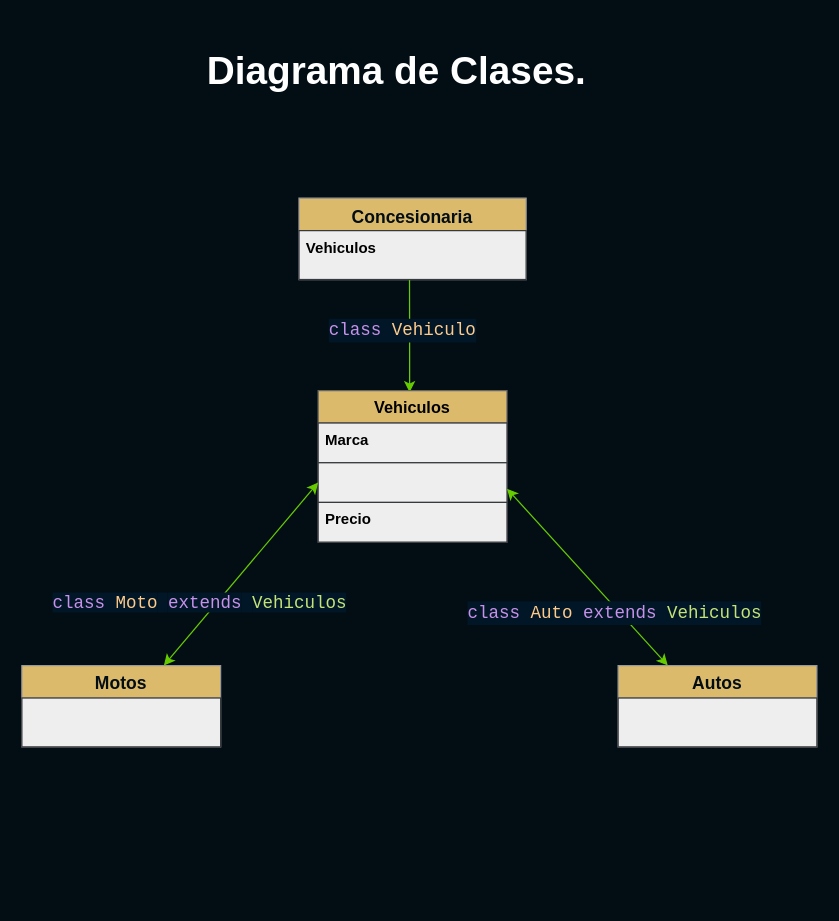
Image size: 839x921. Some labels were removed from this diagram. Here are the shapes that lost their labels. From the top down, the centre of each, then its label:
At (412,482): "Modelo".
At (121,722): "Cilindradas".
At (717,722): "Puertas".
